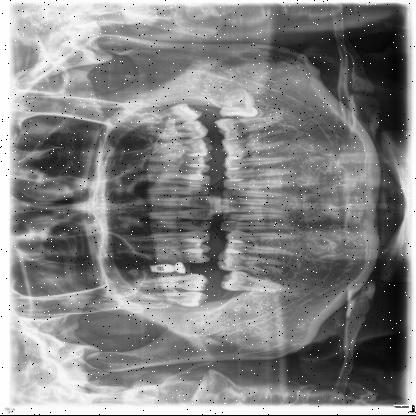Bicon: (144, 262, 192, 278)
